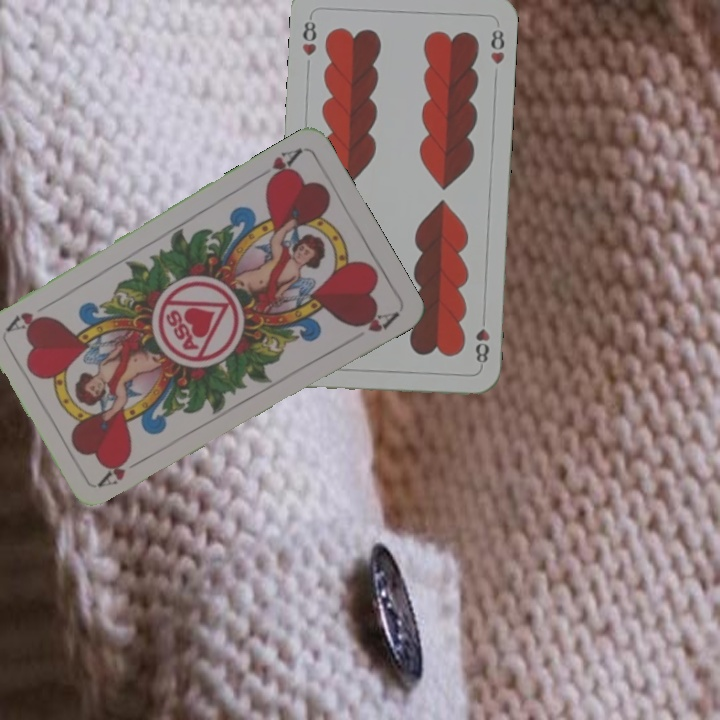H8: (298, 12, 319, 58), (471, 325, 492, 366)
HA: (95, 451, 149, 490), (261, 144, 306, 189)
